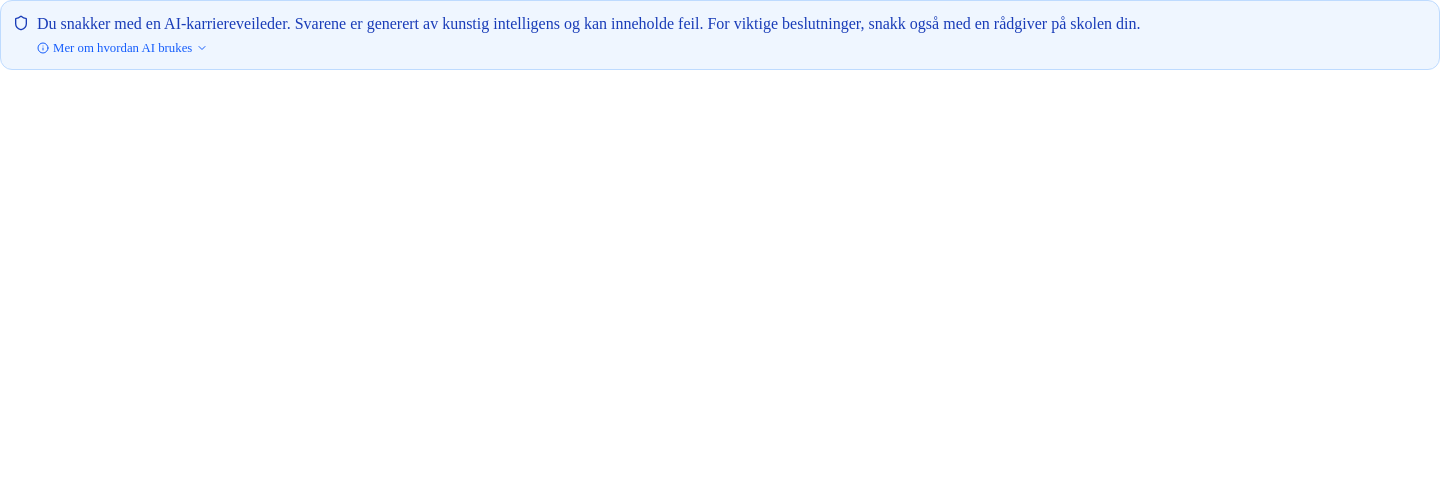
Test: AiDisclosure › skjuler detaljer når bruker klikker igjen
Click the button "Mer om hvordan AI brukes" at (123, 48), box [37,40,208,57]
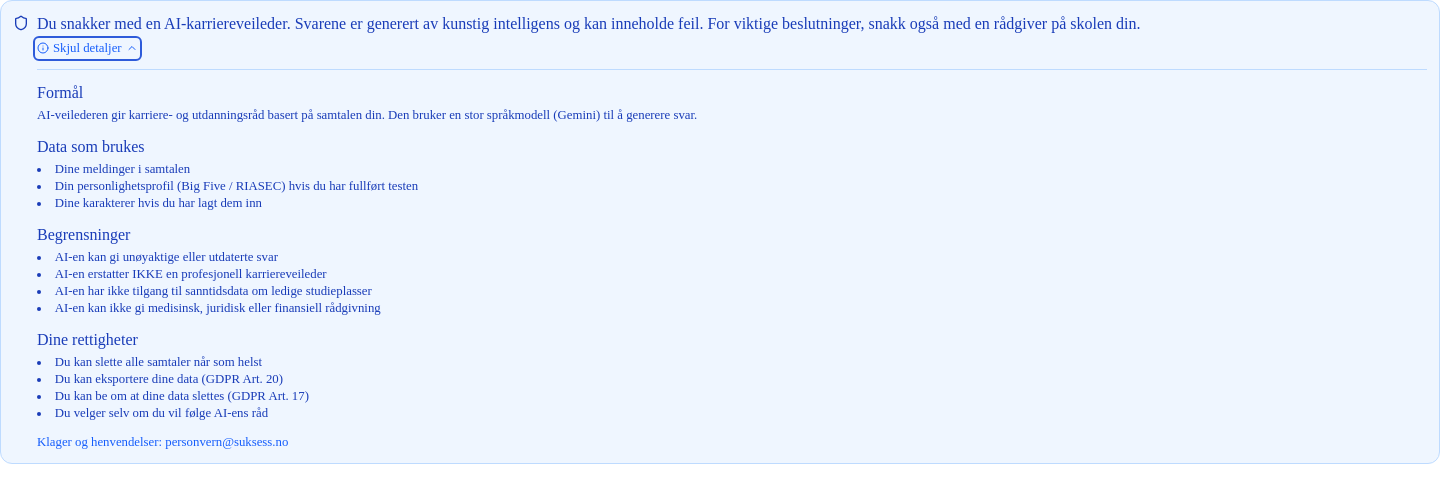
Expected: the heading "Formål" is shown, [37,84,83,101]
Click the button "Skjul detaljer" at (87, 48), box [37,40,138,57]
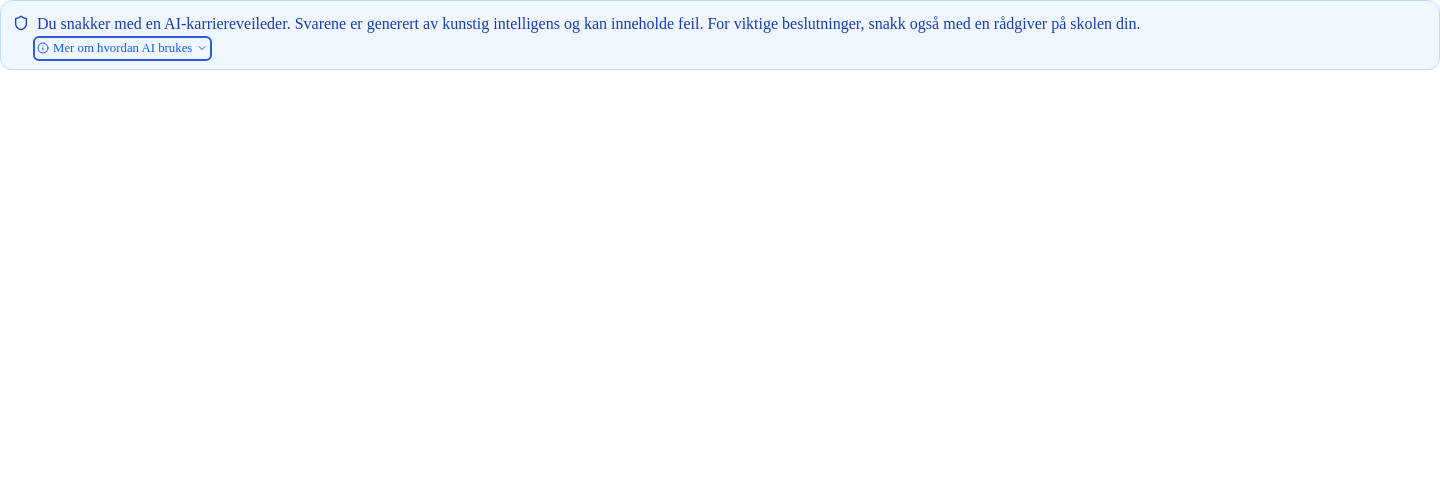
Expected: the heading "Formål" is gone
